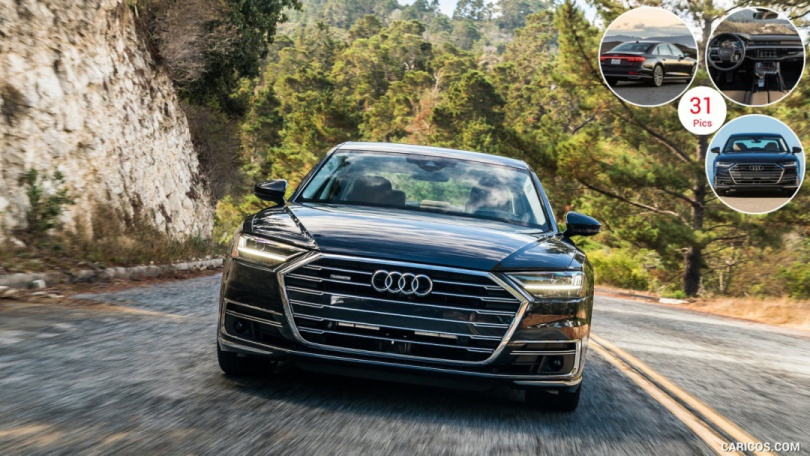audi: (367, 266, 434, 303)
